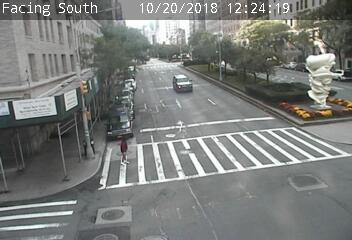car: (172, 74, 192, 92)
